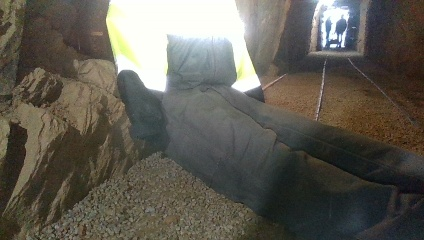manikin: (104, 1, 312, 235)
